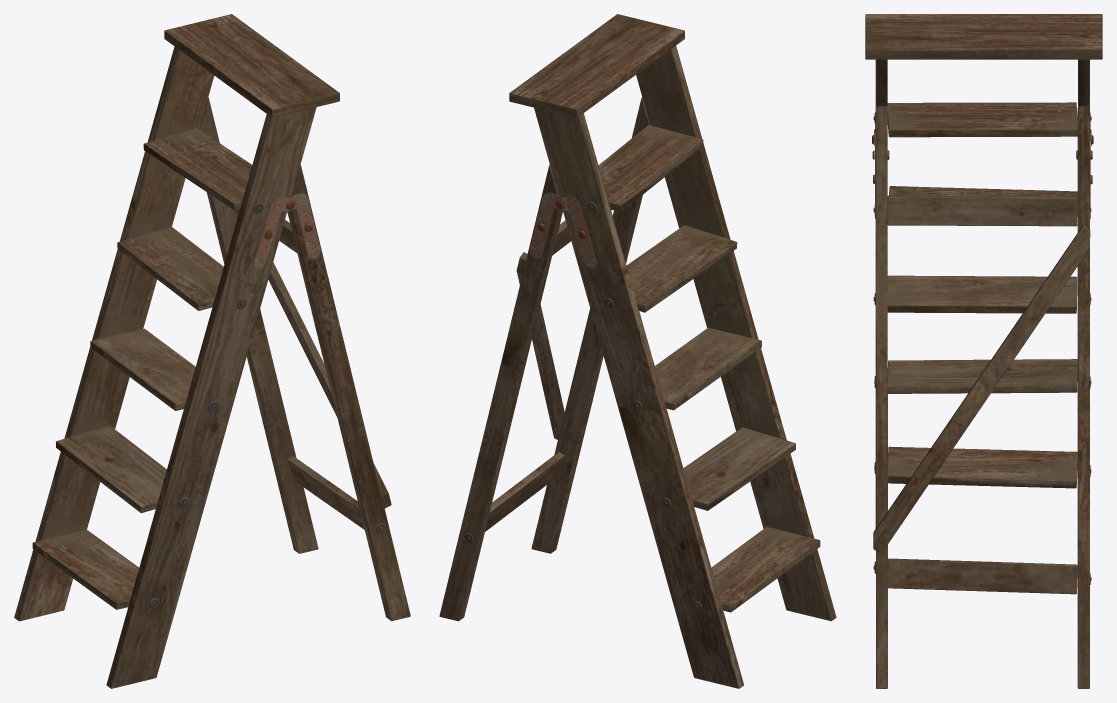
The model's file is wooden_ladder_02.glb.
3 views of the same model, side by side, from view 1: azimuth 30°, elevation 25°; view 2: azimuth 150°, elevation 25°; view 3: azimuth 270°, elevation 25° (orthographic). The views are drawn at different scales.
Visible parts, largest first — view 1: wooden_ladder_02; view 2: wooden_ladder_02; view 3: wooden_ladder_02.
Part boxes in pixels (bbox=[...]): wooden_ladder_02: bbox=[14, 14, 410, 688]; wooden_ladder_02: bbox=[439, 14, 836, 688]; wooden_ladder_02: bbox=[865, 14, 1102, 688].
Size of the model in its own units: 0.9895 by 1.72 by 0.6181.
Materials: 1 (1 with a texture image).
